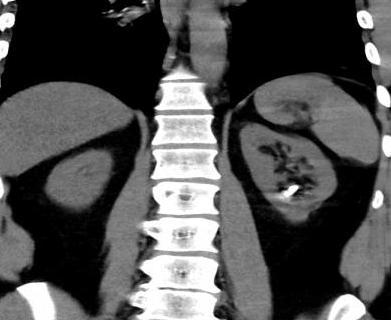Tas_Var: (282, 184, 300, 199)
